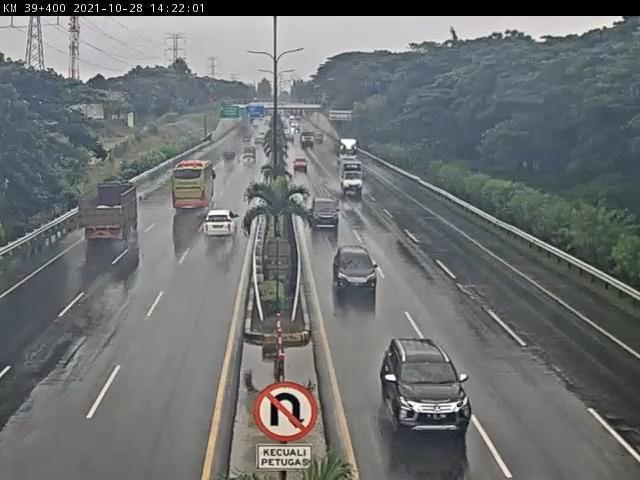bus: (169, 160, 217, 215)
car: (378, 338, 472, 436), (333, 246, 379, 294), (199, 210, 240, 241), (308, 197, 342, 229), (293, 155, 310, 173)
truck: (76, 182, 143, 249), (344, 162, 367, 197)
